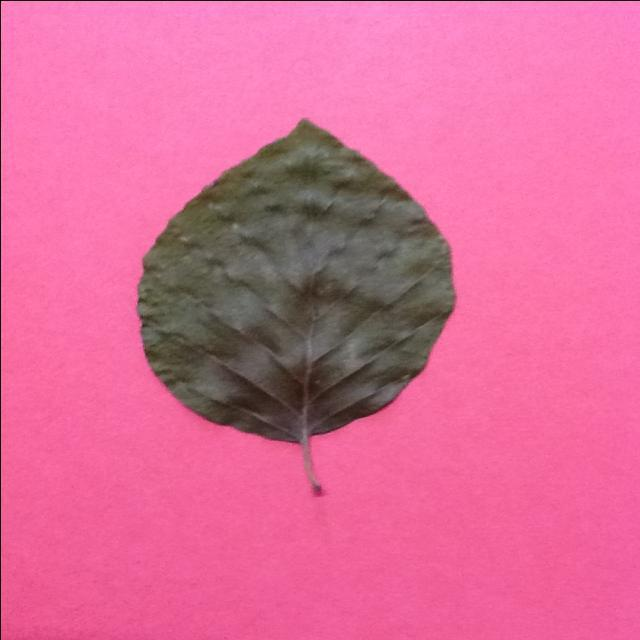foliage: (137, 116, 457, 492)
